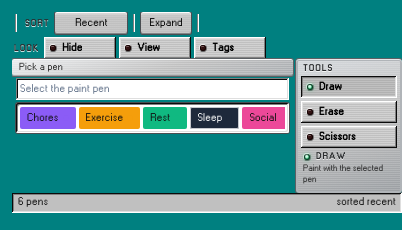
Scenario: PenPalette new pen › offers Create new pen from a collapsed search that matches nothing, using the query as the name
Expected: the button "Create new pen" is not shown
Type "Sketching" into the field named "Search pens". click: x=152, y=89
box: [16, 78, 289, 100]
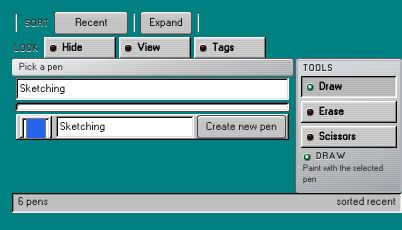
Expected: the field named "New pen name" holds "Sketching", [56, 116, 194, 138]
Click the button "Create new pen". click: x=242, y=127
box: [198, 116, 285, 138]
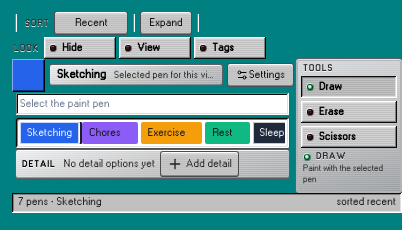
Expected: the button "Sketching" is shown, [20, 122, 79, 144]
Expected: the button "Create new pen" is gone
